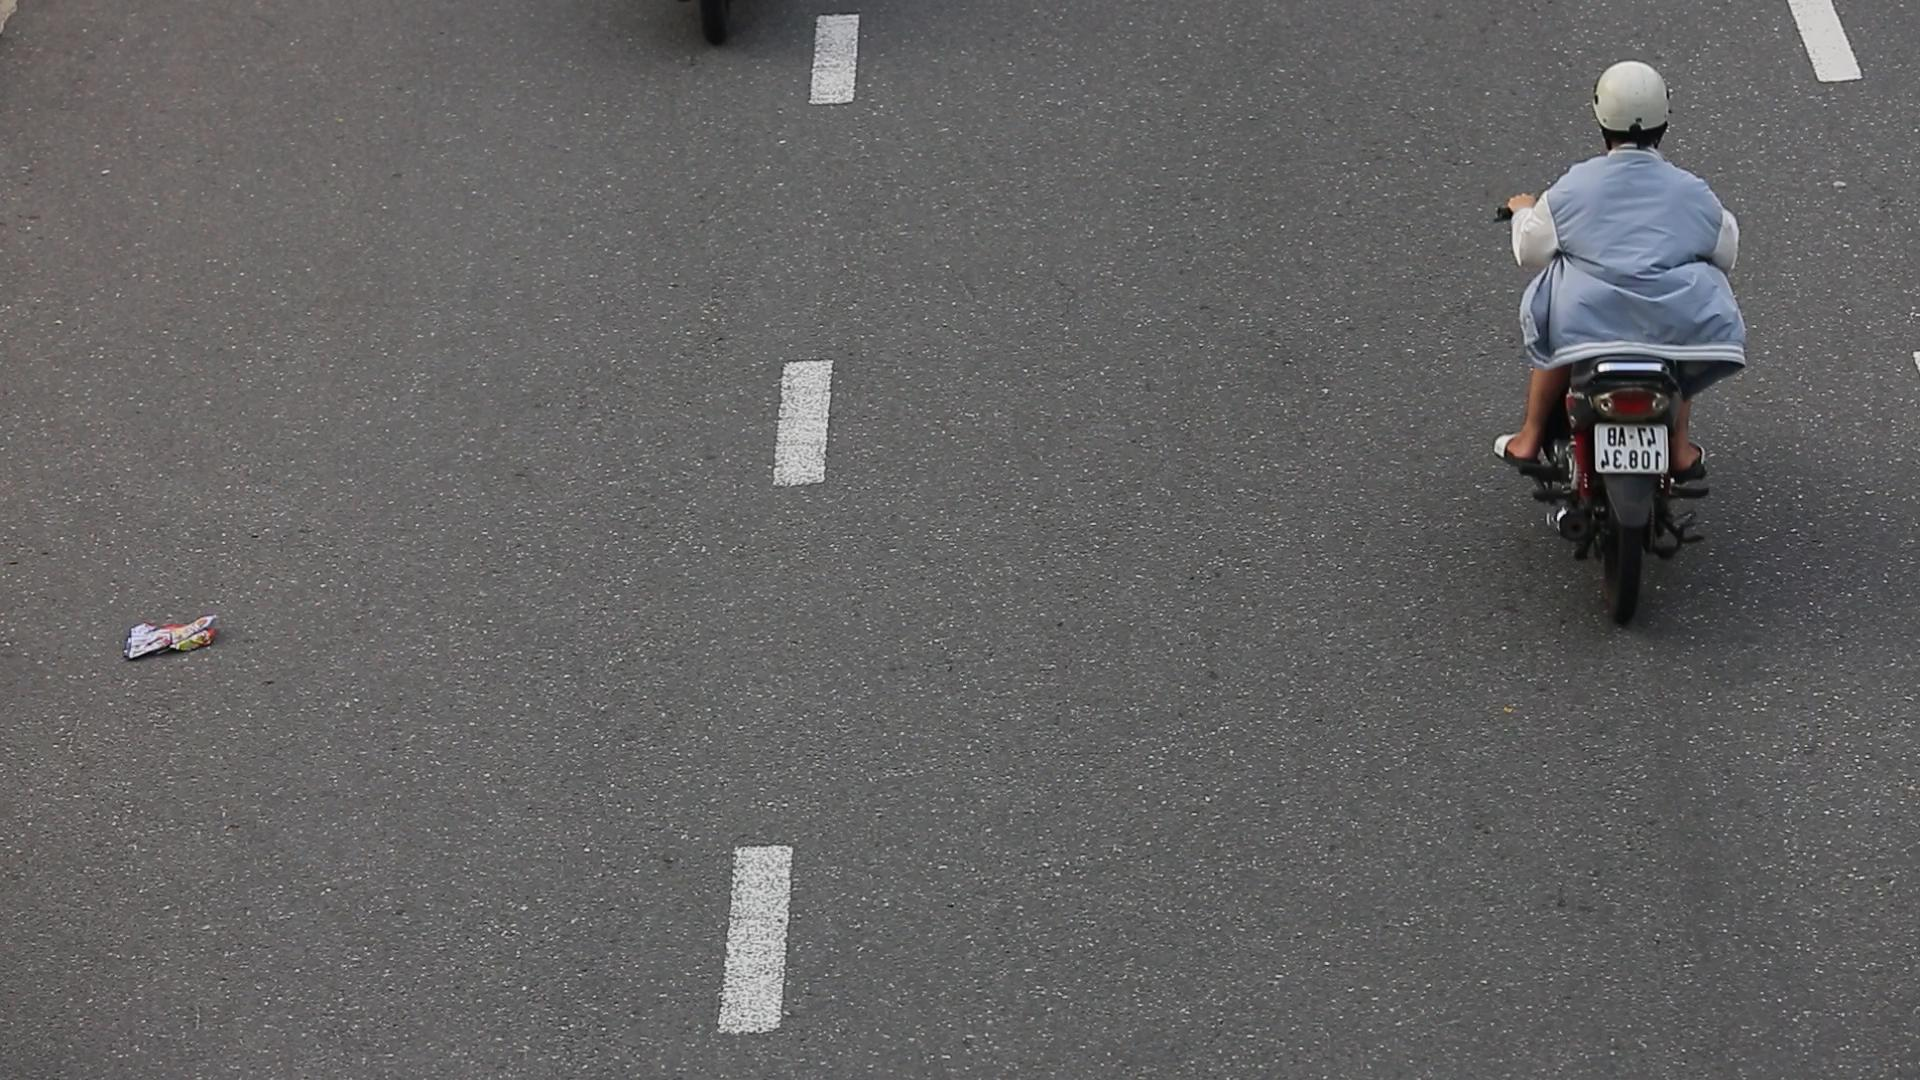motobike: (1485, 50, 1753, 629)
